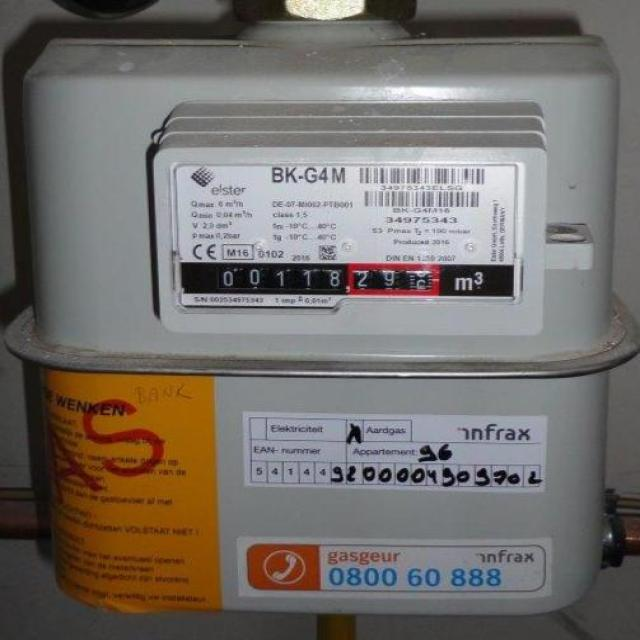gaz_meter: (169, 162, 522, 298)
indication: (181, 264, 441, 295)
